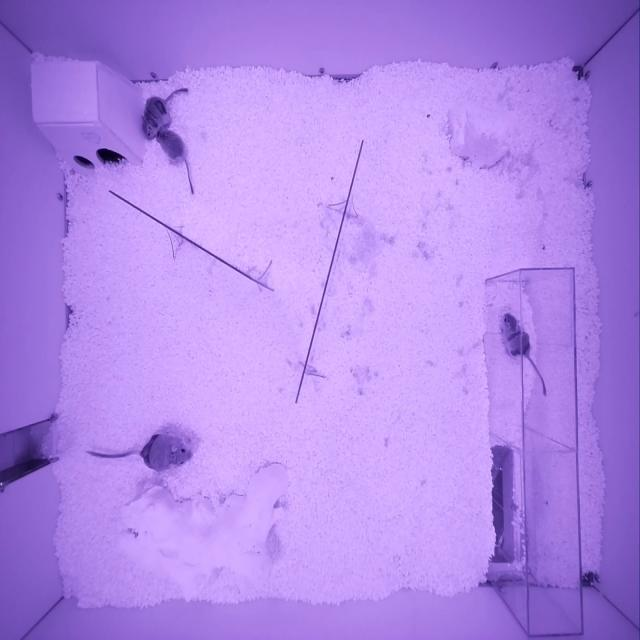adult_back: (140, 434, 193, 472)
pup_fluffy: (154, 128, 185, 160)
pup_h_stripe: (500, 313, 530, 357)
pup_spotted: (141, 96, 171, 138)
